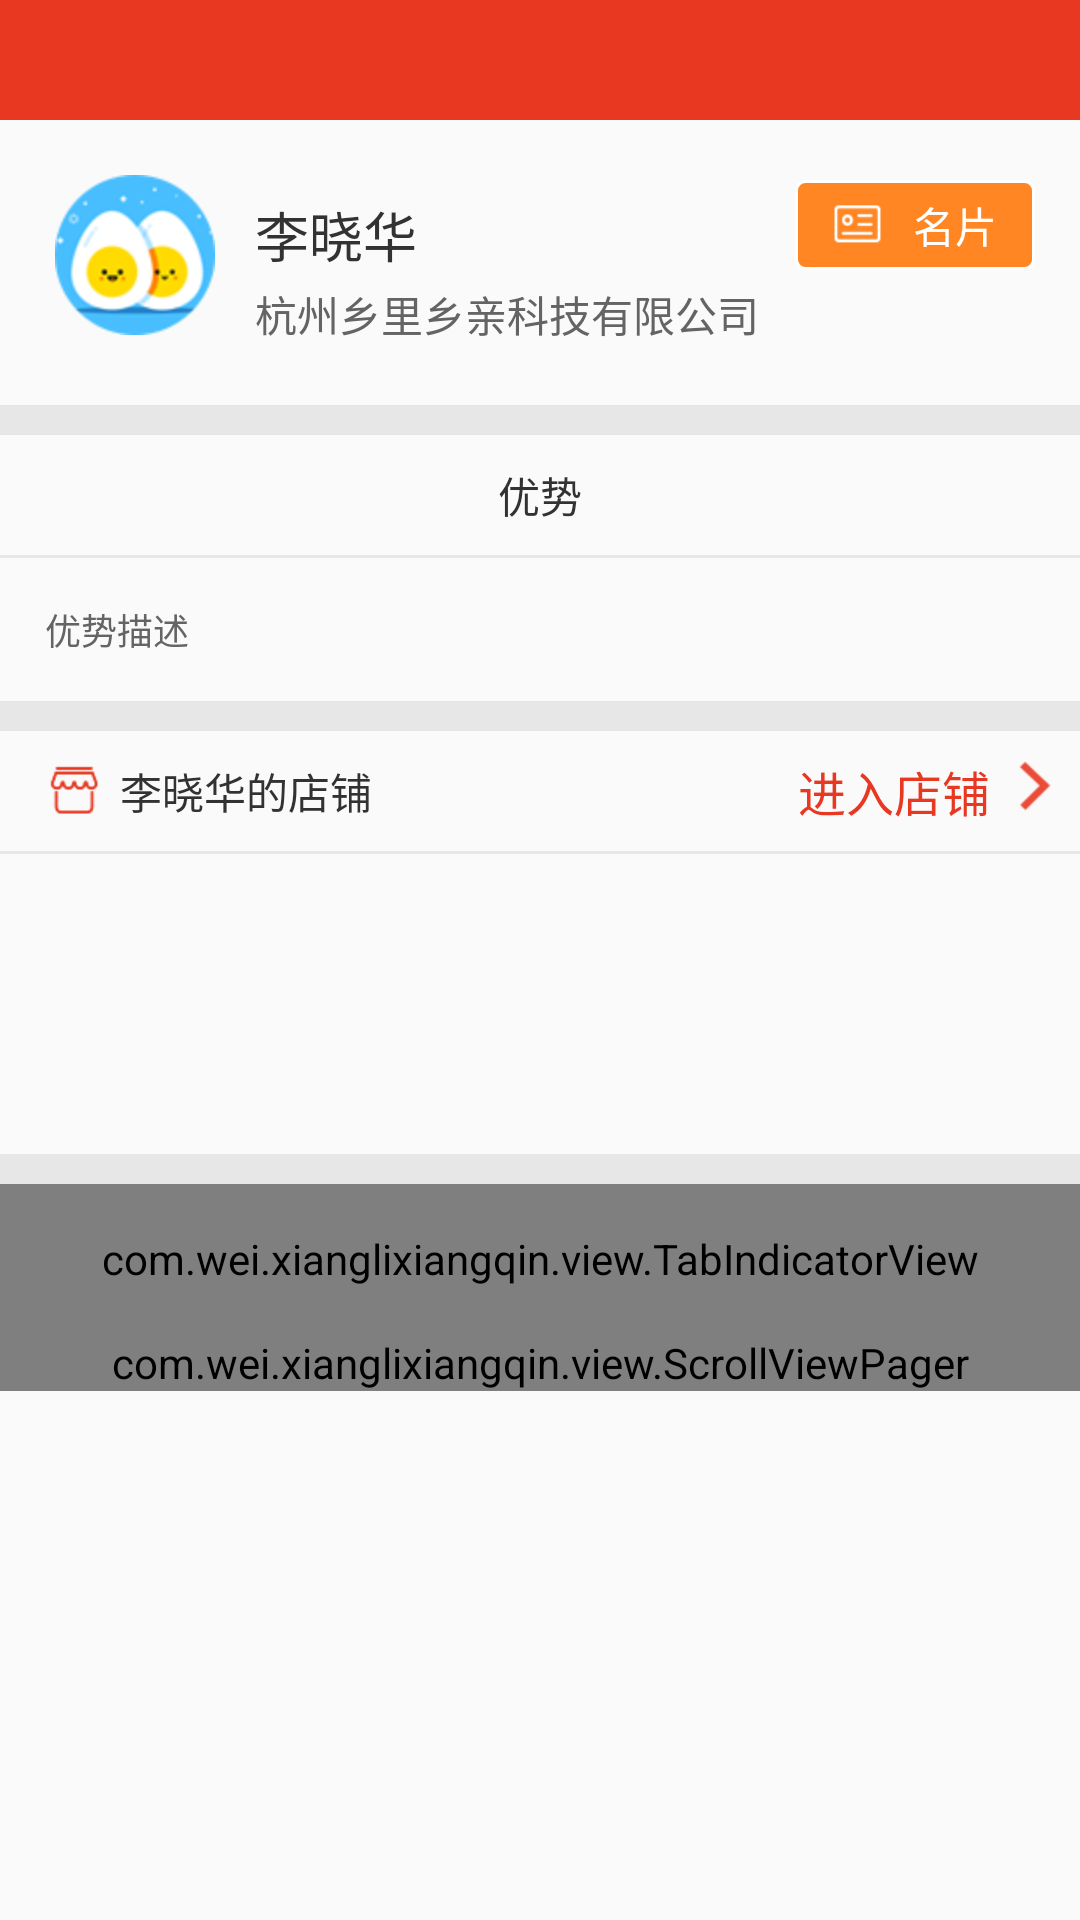

Locate icon controls on the screen. Image size 1080 × 1920, boxes as (x1, y1, x2, y2).
arrow right: (1020, 762, 1050, 810)
exchange card: (834, 205, 881, 243)
find request head: (55, 175, 215, 335)
shopinfo shop: (50, 766, 98, 814)
